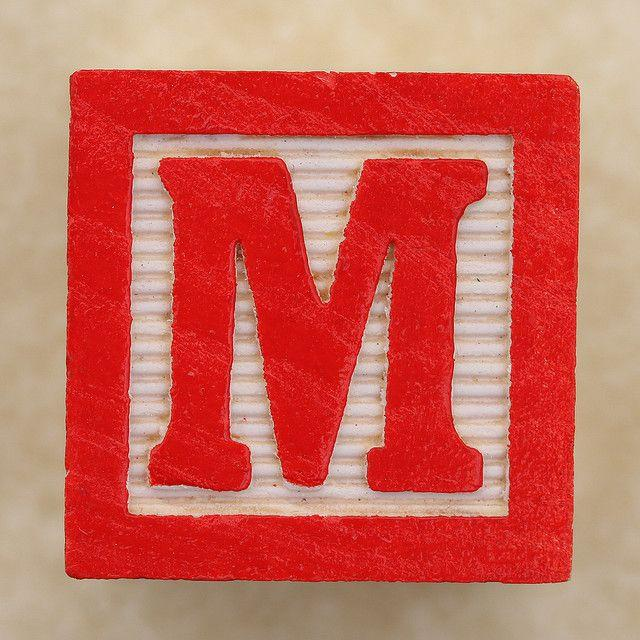M: (145, 145, 497, 508)
